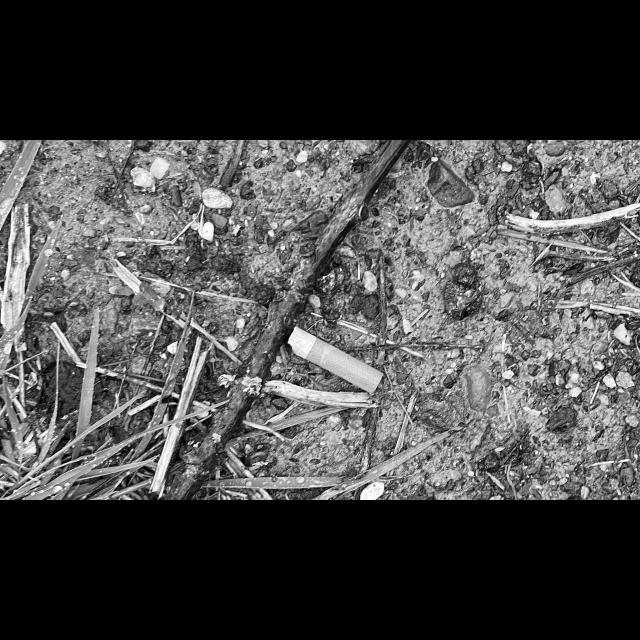cigarette: (287, 325, 385, 394)
